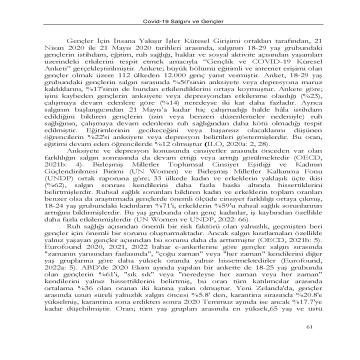header: (139, 14, 228, 24)
